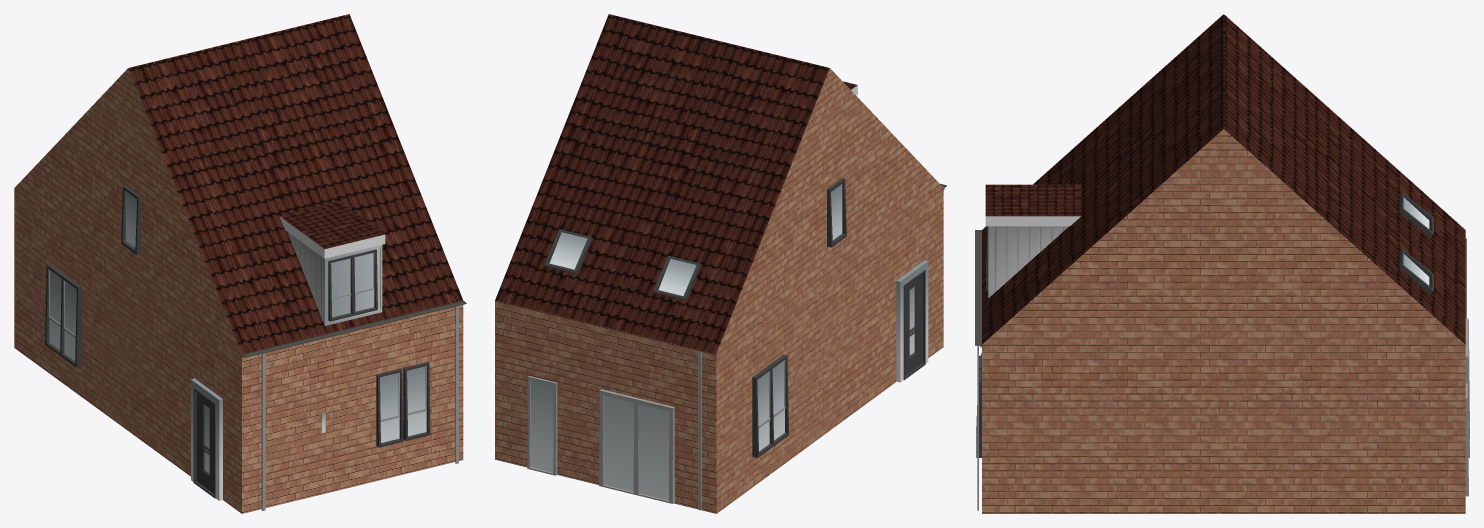
Rendered from Woning 39723 E1.fbx.
The picture shows the model from 3 angles, left to right: view 1: azimuth 30°, elevation 25°; view 2: azimuth 150°, elevation 25°; view 3: azimuth 270°, elevation 25°; orthographic projection. The views are drawn at different scales.
Parts seen in each view (by area): view 1: Woning_39723_E1; view 2: Woning_39723_E1; view 3: Woning_39723_E1.
Boxes of the visible parts, <box> form: Woning_39723_E1: <box>14,14,466,513</box>; Woning_39723_E1: <box>495,14,946,513</box>; Woning_39723_E1: <box>975,14,1469,513</box>.
Size of the model in its own units: 578 by 885 by 1029.
